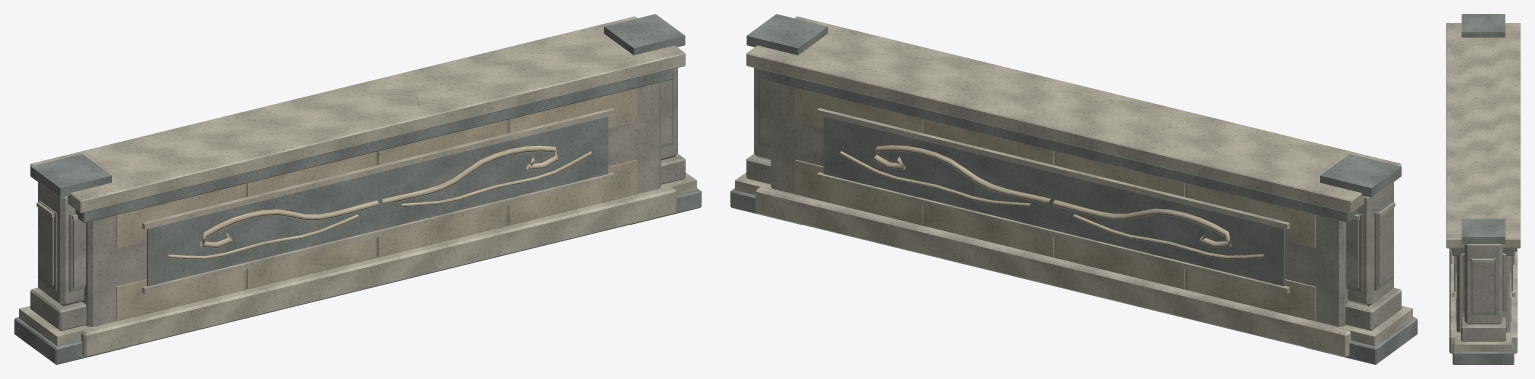
3 views of the same model, side by side, from view 1: azimuth 30°, elevation 25°; view 2: azimuth 150°, elevation 25°; view 3: azimuth 270°, elevation 25° (orthographic). The views are drawn at different scales.
Parts seen in each view (by area): view 1: D10_light, D10_cool, D10_relief, D10_stone; view 2: D10_light, D10_cool, D10_relief, D10_stone; view 3: D10_light, D10_stone, D10_cool, D10_relief.
Part boxes in pixels (x1,y1,x2,y2): D10_light: (19, 16, 696, 357); D10_cool: (14, 14, 701, 364); D10_relief: (116, 88, 637, 320); D10_stone: (30, 47, 685, 330); D10_light: (735, 16, 1412, 357); D10_cool: (730, 14, 1417, 364); D10_relief: (794, 88, 1315, 320); D10_stone: (746, 47, 1401, 330); D10_light: (1446, 23, 1520, 353); D10_stone: (1456, 244, 1510, 341); D10_cool: (1452, 14, 1514, 364); D10_relief: (1449, 248, 1516, 322).
Bounding box in the file's own units: 4.4 × 1.11 × 0.6.
4 materials, 4 textured.
